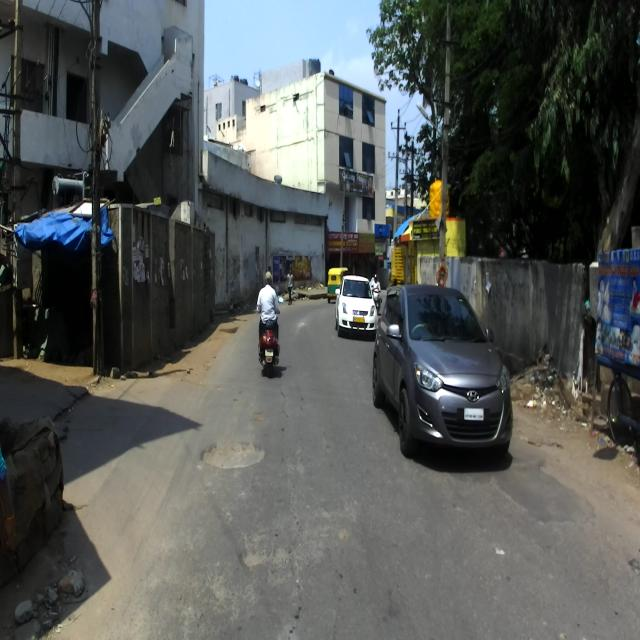car ahead at: (376, 282, 513, 470), (337, 277, 377, 340)
electric pole ahead at: (69, 1, 114, 390)
motorcycle ahead at: (255, 312, 287, 384)
